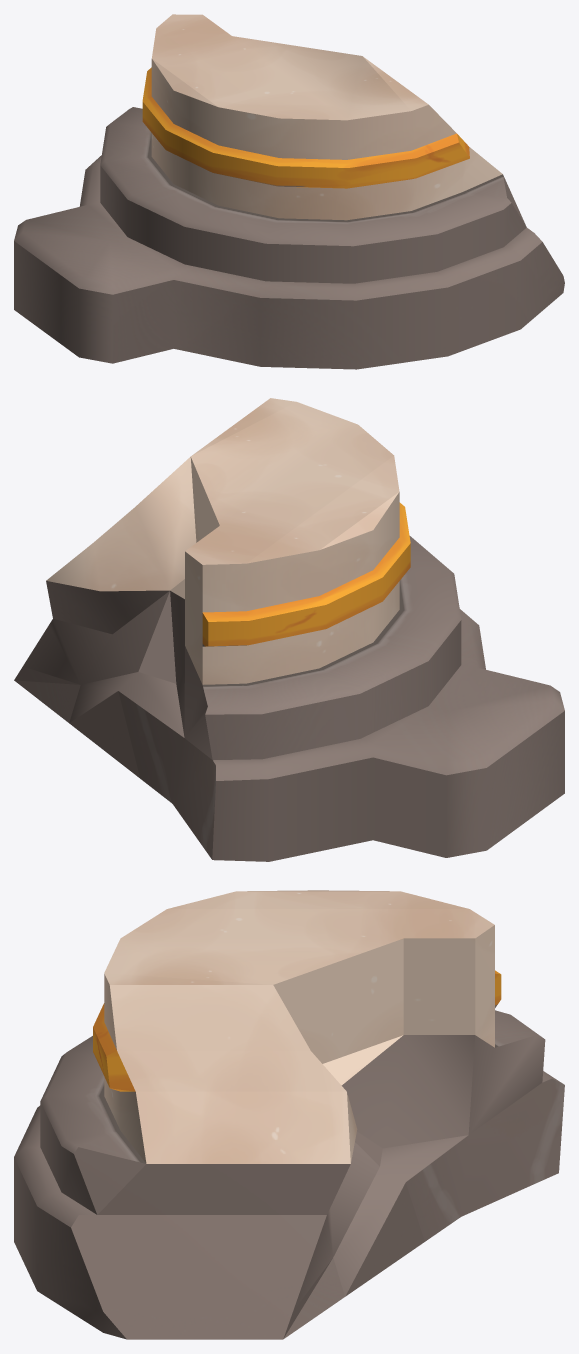
Rendered from PillarFragment1.fbx.
The picture shows the model from 3 angles, top to bottom: view 1: azimuth 30°, elevation 25°; view 2: azimuth 150°, elevation 25°; view 3: azimuth 270°, elevation 25°; orthographic projection. The views are drawn at different scales.
Visible parts, largest first — view 1: PillarFragment1; view 2: PillarFragment1; view 3: PillarFragment1.
Boxes of the visible parts, <box> form: PillarFragment1: <box>14,14,564,369</box>; PillarFragment1: <box>14,398,564,861</box>; PillarFragment1: <box>14,890,564,1339</box>.
Size of the model in its own units: 2.52 by 1.19 by 2.22.
